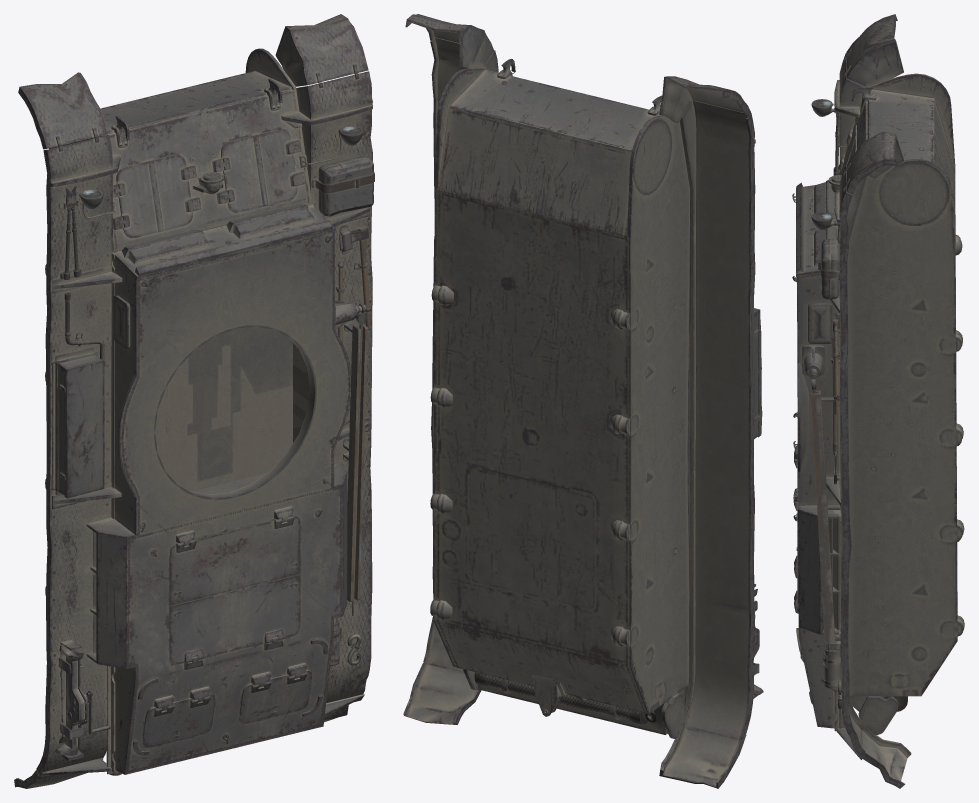
File: Hull.glb
The picture shows the model from 3 angles, left to right: view 1: azimuth 30°, elevation 25°; view 2: azimuth 150°, elevation 25°; view 3: azimuth 270°, elevation 25°; orthographic projection. The views are drawn at different scales.
Parts seen in each view (by area): view 1: set_0_group_0; view 2: set_0_group_0; view 3: set_0_group_0.
Boxes of the visible parts, x1,y1,x2,y2 form: set_0_group_0: (14, 14, 374, 788); set_0_group_0: (403, 14, 763, 788); set_0_group_0: (792, 14, 964, 788).
Size of the model in its own units: 2.25 by 4.74 by 1.16.
Materials: 1 (1 with a texture image).
